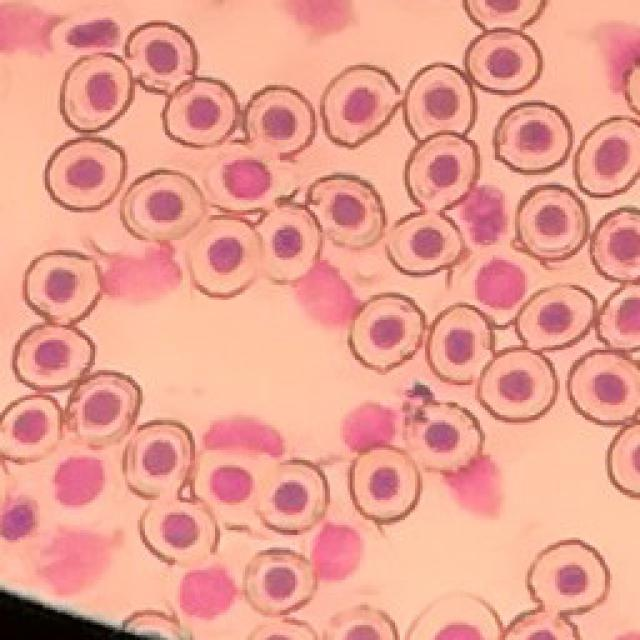RBC: (402, 382, 484, 472), (452, 244, 539, 324), (194, 449, 275, 530), (321, 65, 400, 146), (205, 146, 299, 212), (528, 539, 610, 614), (349, 294, 424, 372), (405, 132, 479, 211), (45, 138, 125, 211), (121, 170, 204, 240), (479, 349, 558, 421), (309, 174, 385, 248), (60, 54, 132, 131), (190, 218, 260, 297), (25, 252, 100, 325), (68, 371, 141, 446), (404, 64, 476, 140), (124, 420, 194, 498), (516, 185, 588, 260), (350, 446, 421, 522), (495, 102, 572, 172), (12, 324, 94, 389), (162, 78, 239, 147), (428, 304, 494, 384), (569, 350, 640, 424), (125, 22, 198, 93), (259, 460, 329, 533), (575, 118, 640, 196), (140, 500, 219, 564), (516, 285, 595, 349), (258, 202, 321, 282), (245, 86, 315, 156), (465, 30, 541, 94), (388, 211, 462, 274), (245, 549, 315, 614), (406, 594, 501, 640), (0, 395, 61, 461), (591, 208, 640, 281), (50, 11, 121, 53), (598, 284, 640, 350), (328, 606, 398, 640), (464, 0, 545, 29), (608, 424, 640, 497), (504, 610, 579, 640), (249, 619, 318, 640)
WBC: (39, 528, 121, 594), (101, 245, 180, 301), (296, 261, 360, 325), (444, 455, 501, 516), (204, 416, 284, 457), (598, 22, 640, 91), (180, 568, 236, 618), (312, 522, 361, 579), (342, 402, 395, 451), (462, 186, 506, 243), (54, 458, 102, 506), (288, 0, 351, 32), (1, 502, 35, 540)
